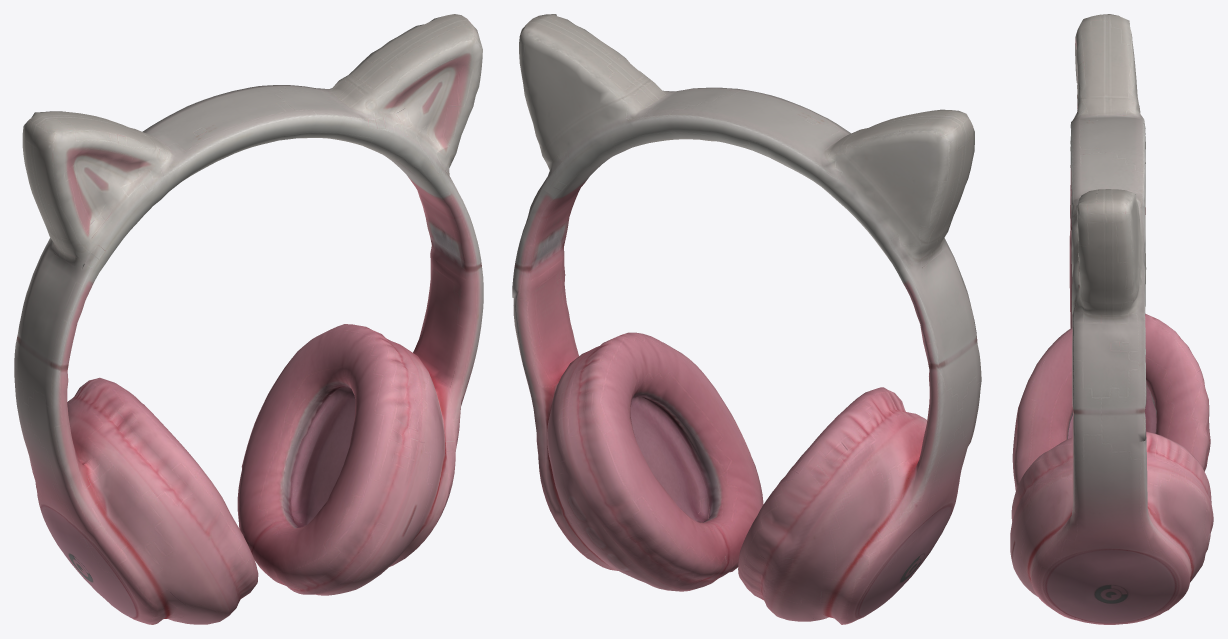
Rendered from procaster_meow_headset.glb.
The picture shows the model from 3 angles, left to right: view 1: azimuth 30°, elevation 25°; view 2: azimuth 150°, elevation 25°; view 3: azimuth 270°, elevation 25°; orthographic projection. The views are drawn at different scales.
Parts seen in each view (by area): view 1: Object_2; view 2: Object_2; view 3: Object_2.
Part boxes in pixels (x1,y1,x2,y2): Object_2: (14,14,483,624); Object_2: (512,14,981,624); Object_2: (1010,14,1213,624).
Bounding box in the file's own units: 3.15 × 3.63 × 1.4.
1 material, 1 textured.
